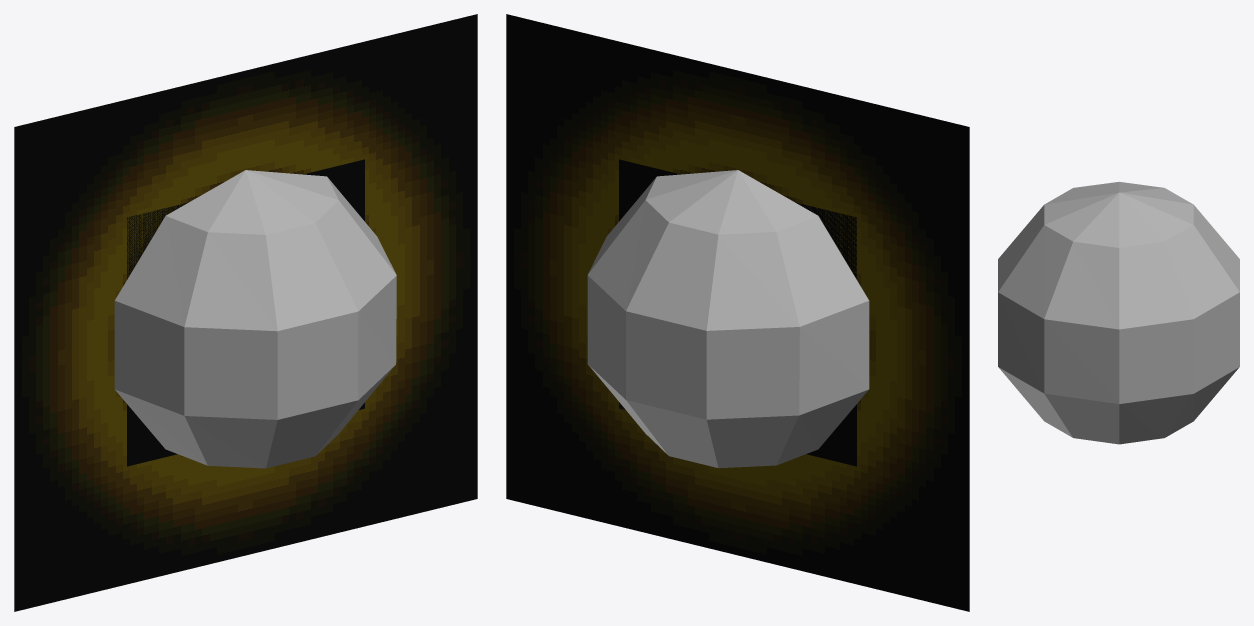
The model's file is v82_marathon.obj.
3 renders of one model, left to right at view 1: azimuth 30°, elevation 25°; view 2: azimuth 150°, elevation 25°; view 3: azimuth 270°, elevation 25°, orthographic. The views are drawn at different scales.
Visible parts, largest first — view 1: v82_marathon_tmd_019, v82_marathon_tmd_030, v82_marathon_tmd_016; view 2: v82_marathon_tmd_019, v82_marathon_tmd_030, v82_marathon_tmd_016; view 3: v82_marathon_tmd_030.
Boxes of the visible parts, x1,y1,x2,y2 form: v82_marathon_tmd_019: [14, 14, 477, 611]; v82_marathon_tmd_030: [114, 170, 396, 468]; v82_marathon_tmd_016: [127, 159, 364, 466]; v82_marathon_tmd_019: [506, 14, 969, 611]; v82_marathon_tmd_030: [587, 170, 869, 468]; v82_marathon_tmd_016: [619, 159, 856, 466]; v82_marathon_tmd_030: [998, 181, 1239, 444].
Bounding box in the file's own units: 2.67 × 2.67 × 1.43.
47 materials, 37 textured.
